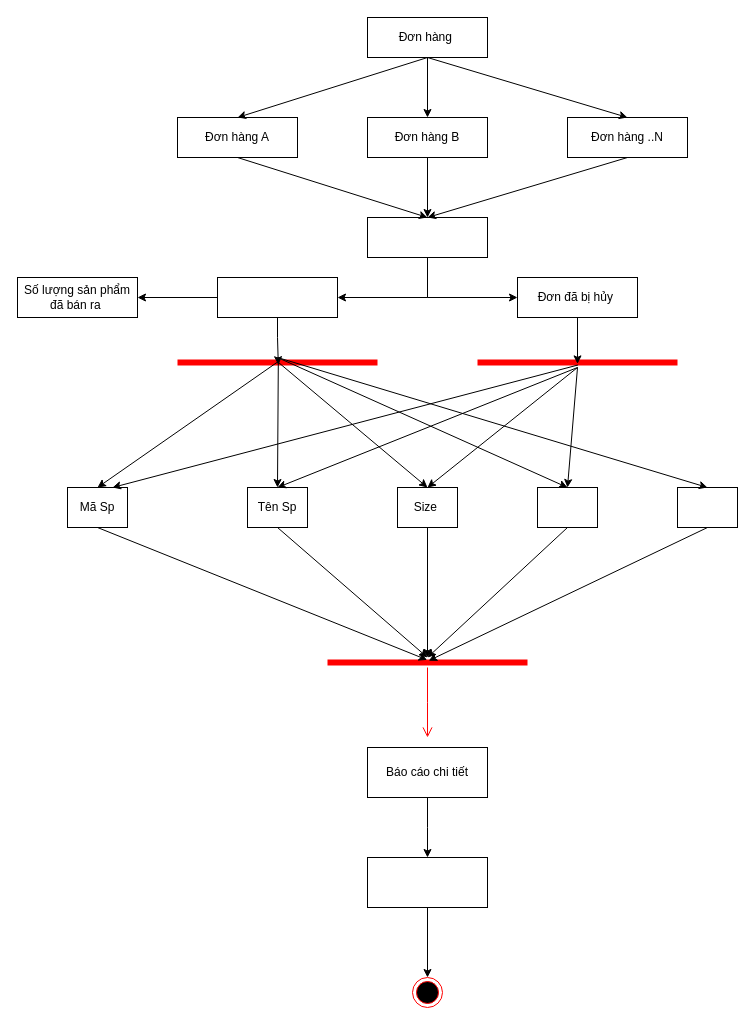
The diagram is 755 pixels wide and 1025 high, and some of its shapes have lost their labels. The centre of each missing label's shape, as x and y in pixels:
"Logout" belongs at (x=427, y=882).
"Ngày nhập đơn" belongs at (x=567, y=507).
"Ngày xuất đơn" belongs at (x=707, y=507).
"Đơn giao thành công" belongs at (x=277, y=297).
"Đơn hàng chi tiết" belongs at (x=427, y=237).
